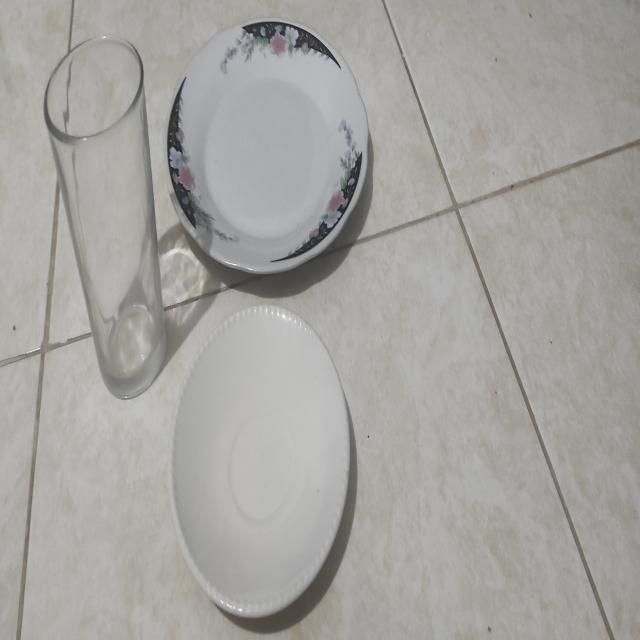non-organic waste: (165, 291, 361, 628), (161, 9, 385, 283)
